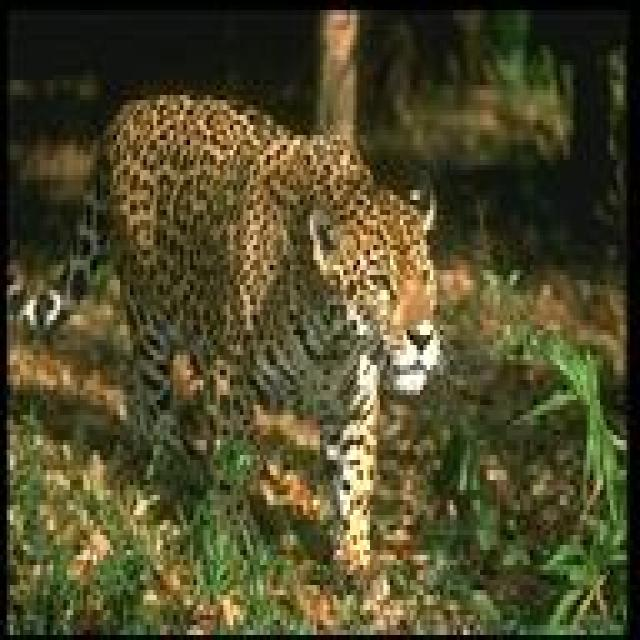Leopard: (26, 92, 438, 546)
